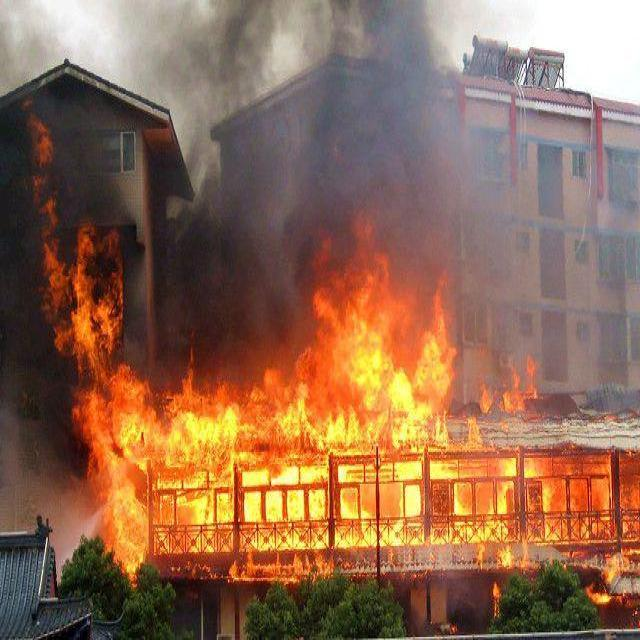Fire: (74, 252, 460, 459), (151, 457, 423, 550), (32, 118, 120, 348), (426, 455, 518, 541), (94, 459, 148, 572)
Smoke: (189, 3, 488, 250)
